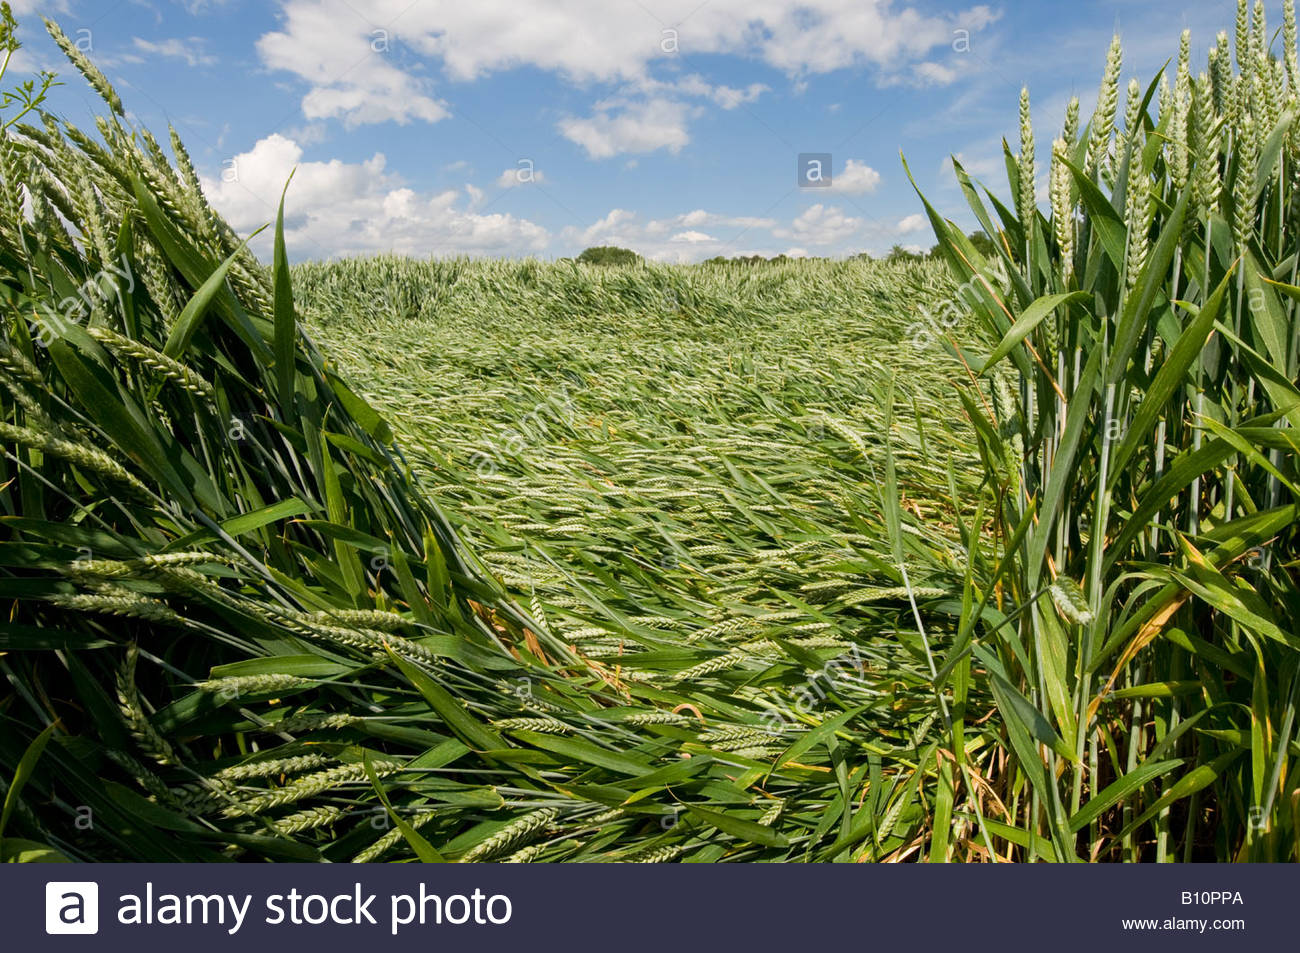damaged_wheat: (12, 154, 295, 722), (425, 256, 949, 532), (544, 680, 953, 848)
